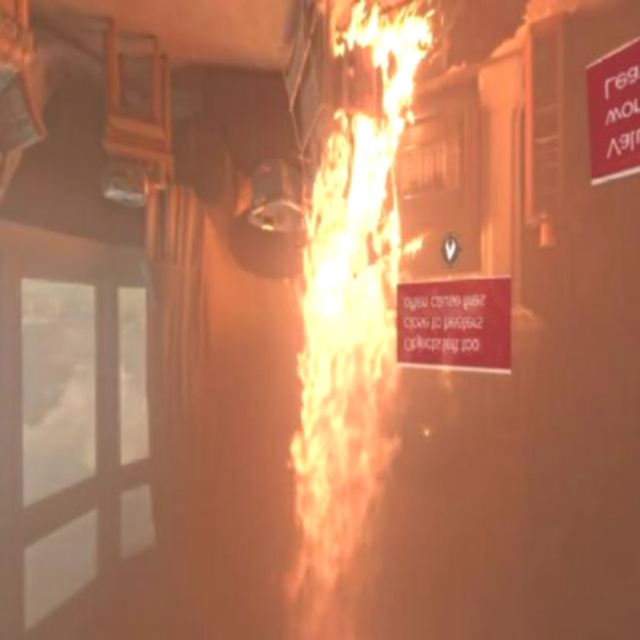fire: (250, 112, 438, 640)
